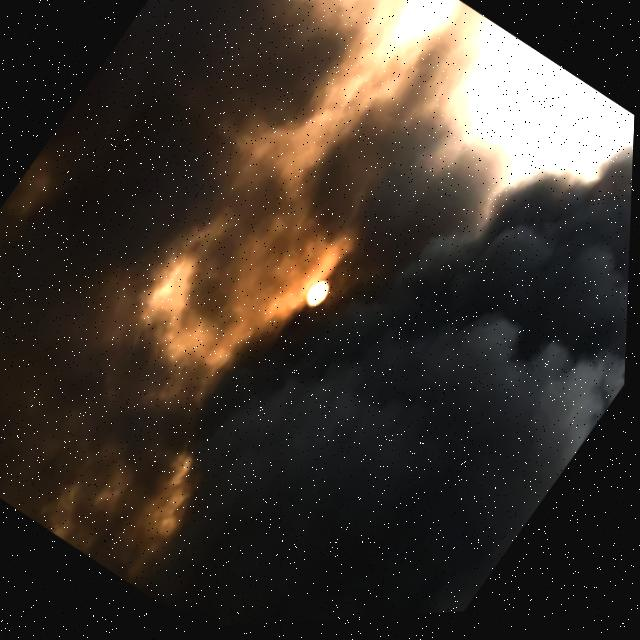Smoke: (98, 7, 639, 635), (0, 0, 474, 561)
